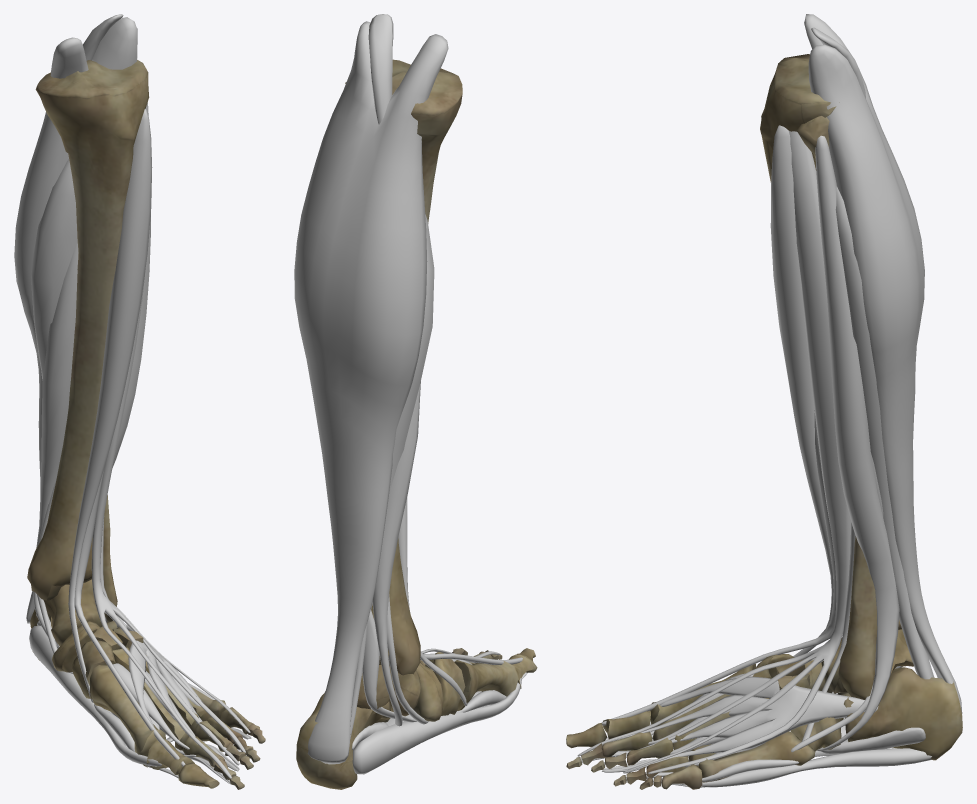
File: leg.fbx
3 views of the same model, side by side, from view 1: azimuth 30°, elevation 25°; view 2: azimuth 150°, elevation 25°; view 3: azimuth 270°, elevation 25° (orthographic). The views are drawn at different scales.
Visible parts, largest first — view 1: polySurface638, polySurface659, polySurface666, polySurface688, polySurface665, polySurface673, polySurface650, polySurface658, polySurface669, polySurface664, polySurface653, polySurface684 (+11 smaller); view 2: polySurface666, polySurface638, polySurface688, polySurface658, polySurface660, polySurface640, polySurface673, polySurface650, polySurface656, polySurface653, polySurface628, polySurface659 (+4 smaller); view 3: polySurface666, polySurface665, polySurface684, polySurface659, polySurface664, polySurface673, polySurface640, polySurface639, polySurface638, polySurface661, polySurface669, polySurface648 (+8 smaller).
Part boxes in pixels (x1,y1,x2,y2): polySurface638: (27, 59, 148, 600); polySurface659: (68, 109, 152, 702); polySurface666: (14, 17, 137, 623); polySurface688: (33, 241, 249, 782); polySurface665: (91, 272, 250, 778); polySurface673: (31, 159, 77, 380); polySurface650: (90, 665, 165, 767); polySurface658: (29, 626, 162, 766); polySurface669: (74, 465, 185, 766); polySurface664: (105, 617, 242, 765); polySurface653: (43, 579, 102, 645); polySurface684: (112, 102, 150, 467); polySurface666: (294, 21, 448, 764); polySurface638: (345, 59, 462, 675); polySurface688: (372, 381, 499, 726); polySurface658: (352, 678, 521, 774); polySurface660: (350, 14, 393, 739); polySurface640: (296, 691, 390, 789); polySurface673: (371, 214, 434, 609); polySurface650: (454, 660, 518, 710); polySurface656: (362, 609, 527, 722); polySurface653: (357, 665, 420, 716); polySurface628: (413, 663, 443, 721); polySurface659: (398, 497, 467, 705); polySurface666: (804, 14, 962, 713); polySurface665: (577, 131, 851, 773); polySurface684: (815, 135, 899, 751); polySurface659: (770, 125, 833, 657); polySurface664: (589, 676, 878, 773); polySurface673: (835, 187, 934, 679); polySurface640: (837, 667, 962, 760); polySurface639: (796, 116, 877, 699); polySurface638: (760, 54, 901, 629); polySurface661: (701, 748, 942, 787); polySurface669: (602, 410, 836, 725); polySurface648: (699, 731, 815, 782).
Bounding box in the file's own units: 11.9 × 55.96 × 27.34.
